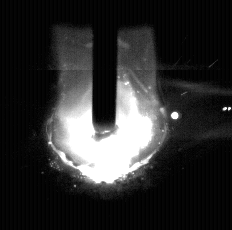arame: (93, 0, 117, 141)
poca: (48, 0, 172, 230)
